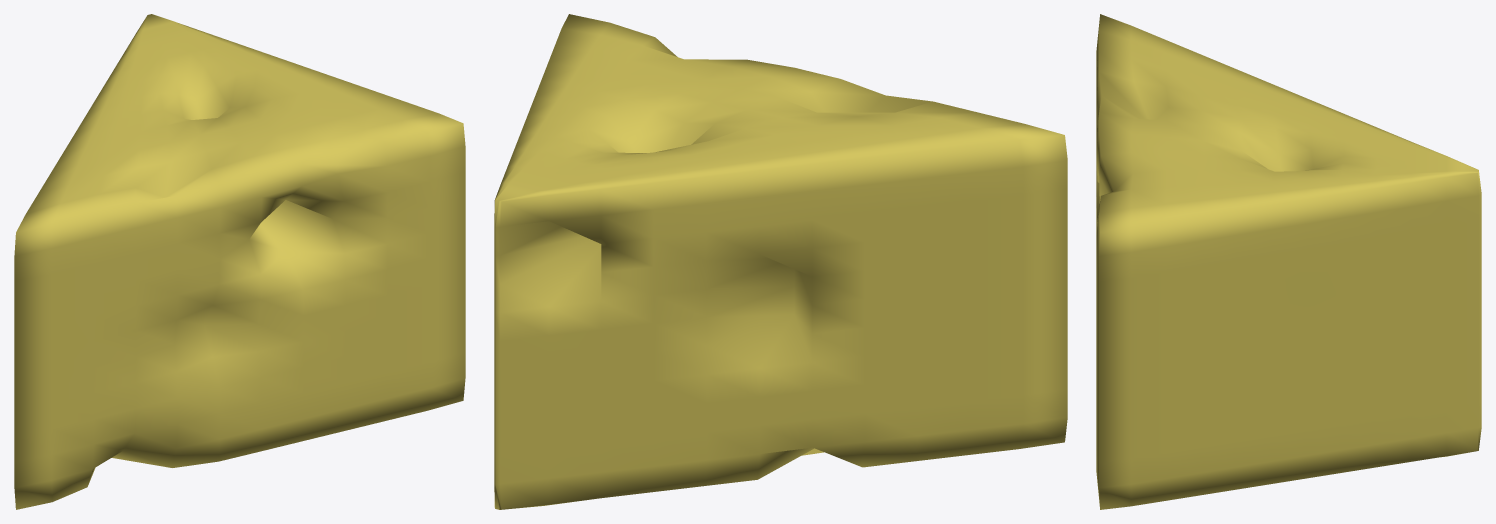
Rendered from cheese_block.fbx.
3 views of the same model, side by side, from view 1: azimuth 30°, elevation 25°; view 2: azimuth 150°, elevation 25°; view 3: azimuth 270°, elevation 25° (orthographic). The views are drawn at different scales.
Parts seen in each view (by area): view 1: Cheese Block; view 2: Cheese Block; view 3: Cheese Block.
Boxes of the visible parts, x1,y1,x2,y2 form: Cheese Block: [14, 14, 465, 509]; Cheese Block: [494, 14, 1067, 509]; Cheese Block: [1096, 14, 1481, 509].
Bounding box in the file's own units: 0.5 × 0.3 × 0.37.
